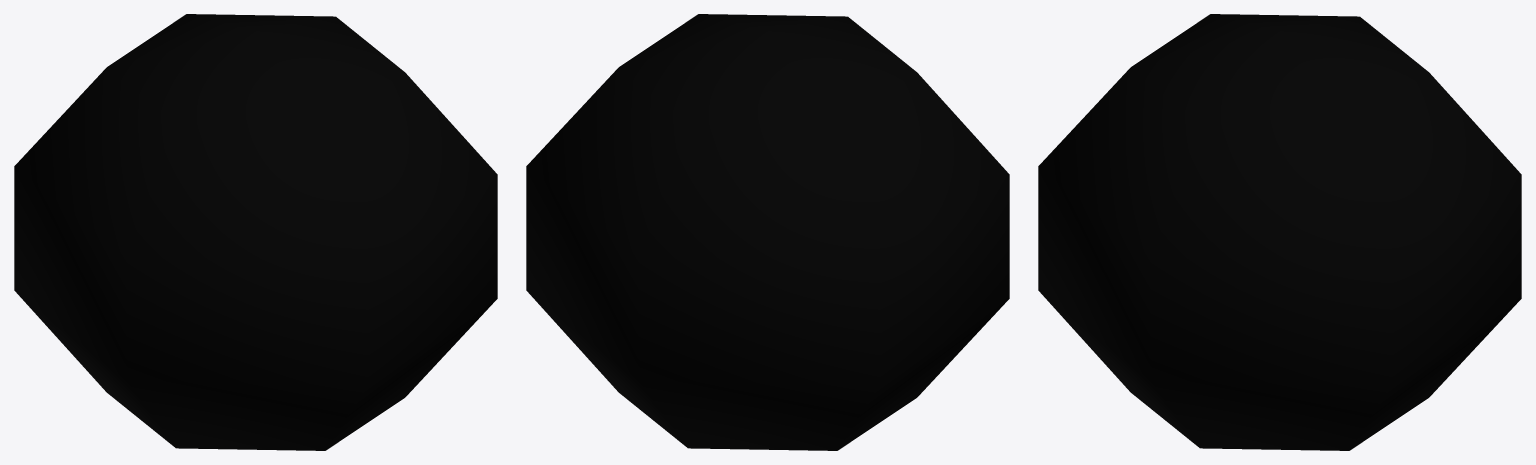
The model's file is bubble_solid_sphere5.glb.
3 renders of one model, left to right at view 1: azimuth 30°, elevation 25°; view 2: azimuth 150°, elevation 25°; view 3: azimuth 270°, elevation 25°, orthographic.
Visible parts, largest first — view 1: bubble_solid_texture.png__; view 2: bubble_solid_texture.png__; view 3: bubble_solid_texture.png__.
Boxes of the visible parts, x1,y1,x2,y2 form: bubble_solid_texture.png__: (14, 14, 497, 450); bubble_solid_texture.png__: (526, 14, 1009, 450); bubble_solid_texture.png__: (1038, 14, 1521, 450).
Bounding box in the file's own units: 8.88 × 9.19 × 10.02.
1 material, 1 textured.
